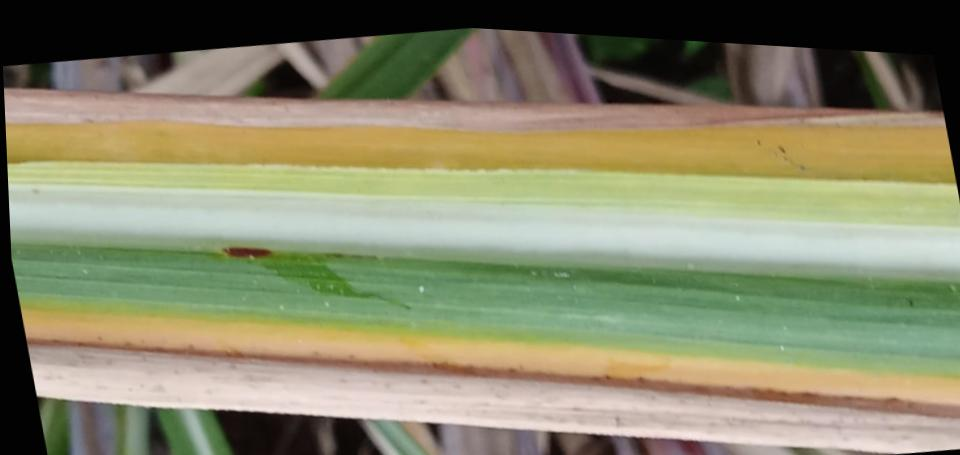Rust: (220, 244, 272, 259), (903, 296, 916, 308)
Yellow: (20, 306, 960, 453), (4, 88, 955, 184)
